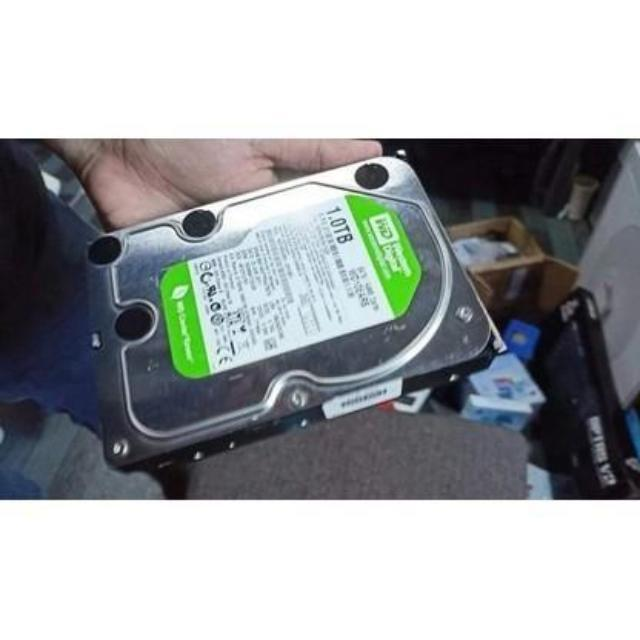DISK: (64, 148, 510, 462)
